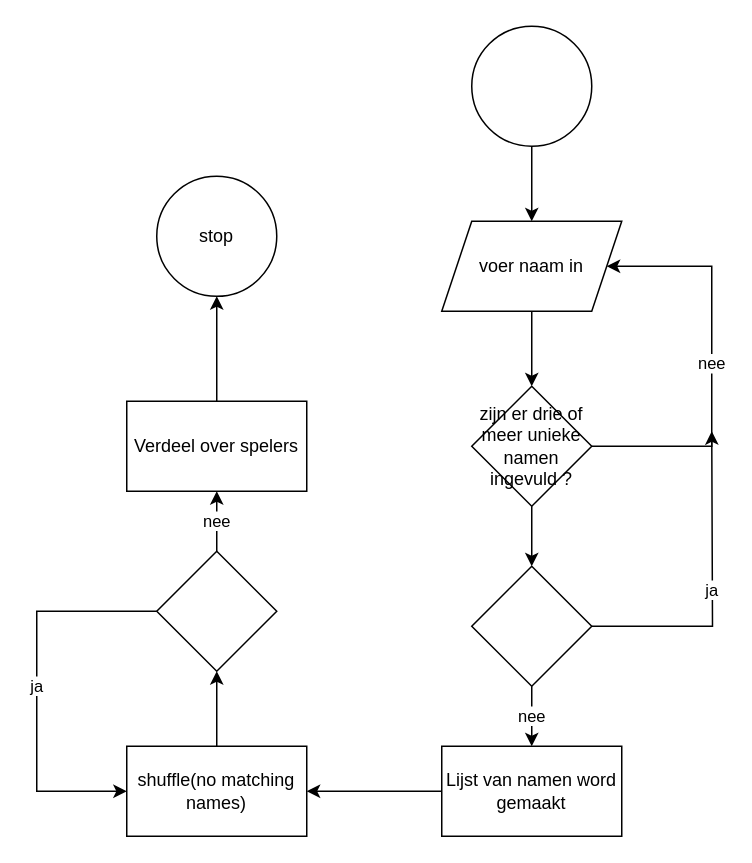
The diagram is 752 pixels wide and 863 high, and some of its shapes have lost their labels. Here are the shapes that lost their labels. From the top down, the centre of each, then its label:
point (531, 85): start
point (216, 610): Zijn er geen matching names?
point (531, 625): Wil je meer namen invoeren?
